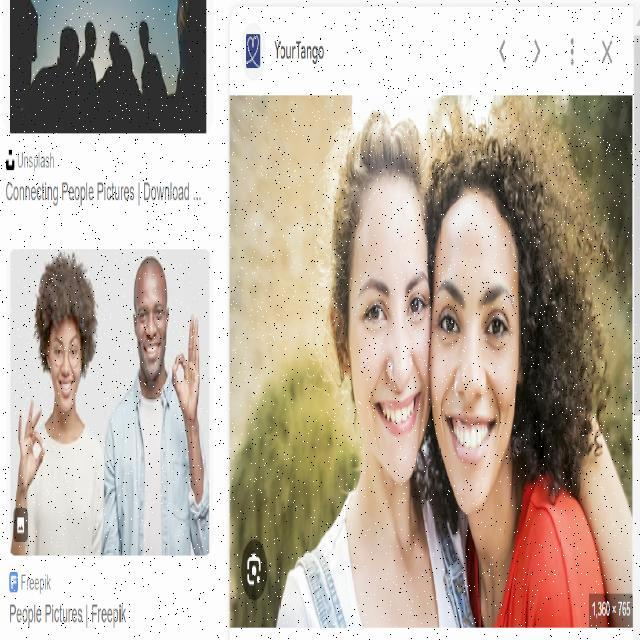face_no_mask: (329, 170, 428, 488), (432, 191, 529, 489), (132, 259, 169, 385), (45, 322, 87, 412)
